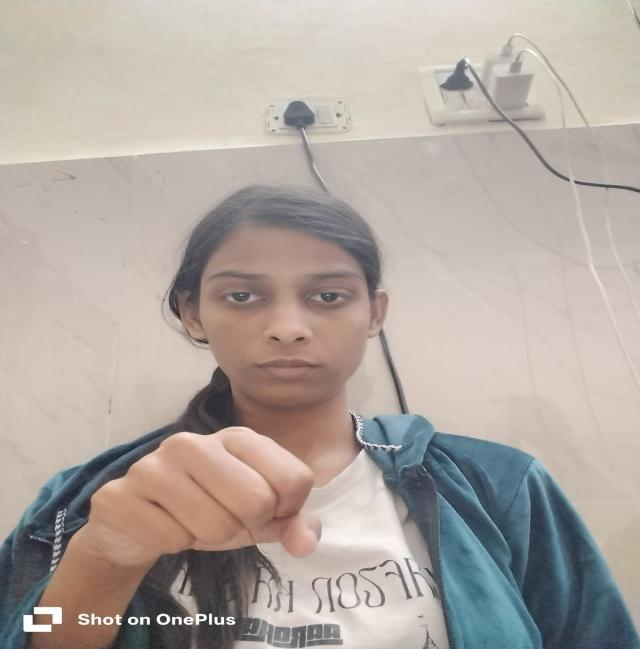Yes: (61, 417, 354, 588)
